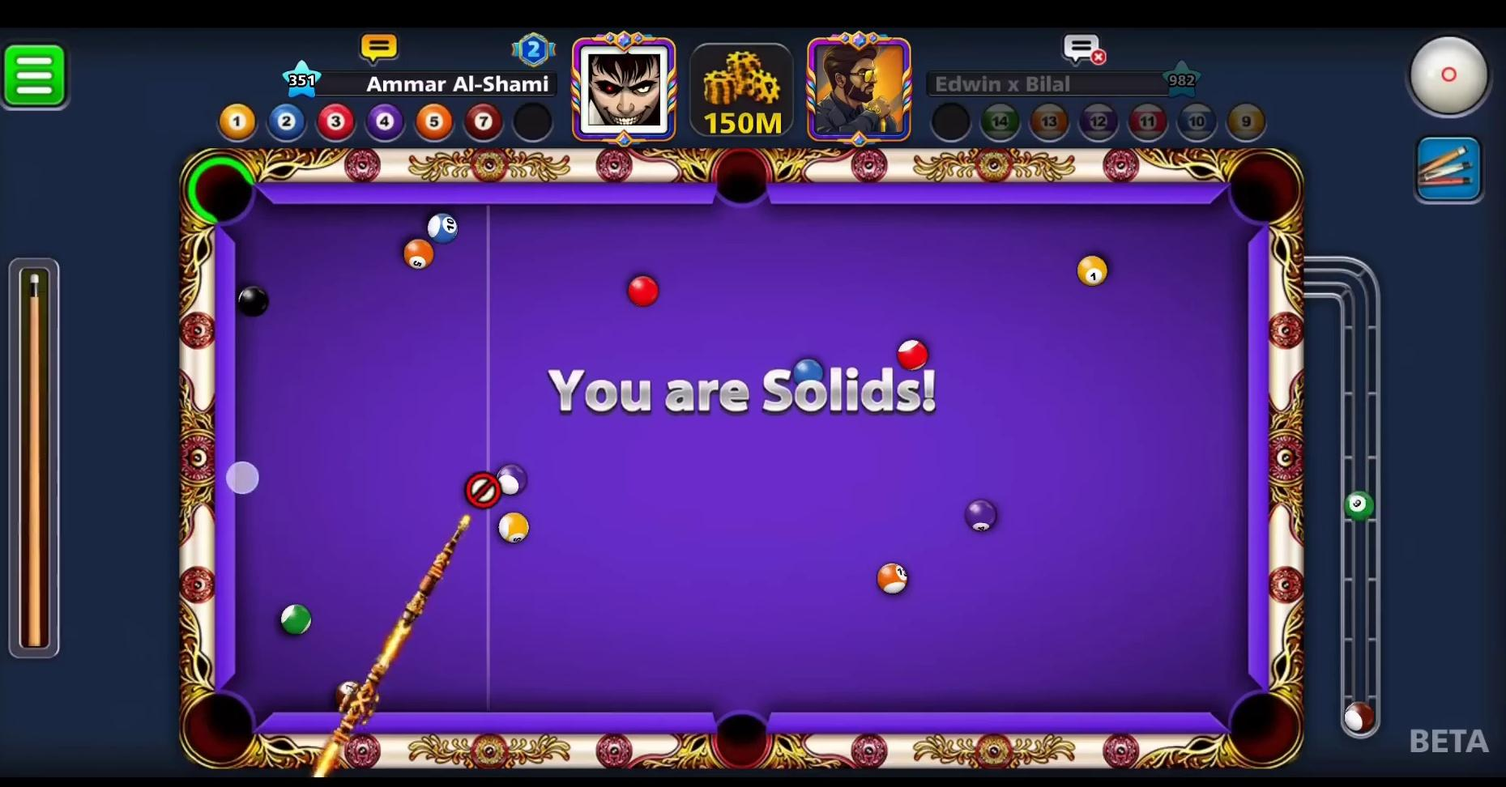Ball: (487, 503, 539, 550), (395, 226, 443, 275), (226, 280, 278, 321), (871, 551, 912, 602), (487, 457, 531, 503), (959, 496, 1003, 541), (619, 272, 666, 314), (274, 599, 322, 638), (889, 334, 933, 376), (788, 347, 828, 393), (1071, 253, 1117, 291), (421, 209, 467, 246)
Force: (0, 259, 65, 660)
Hole: (174, 138, 270, 236), (173, 678, 267, 774), (1215, 683, 1308, 776), (1220, 142, 1304, 236), (699, 141, 785, 223), (702, 694, 783, 778)
Play_Area: (228, 202, 1247, 710)
Spin: (1402, 27, 1504, 129)
